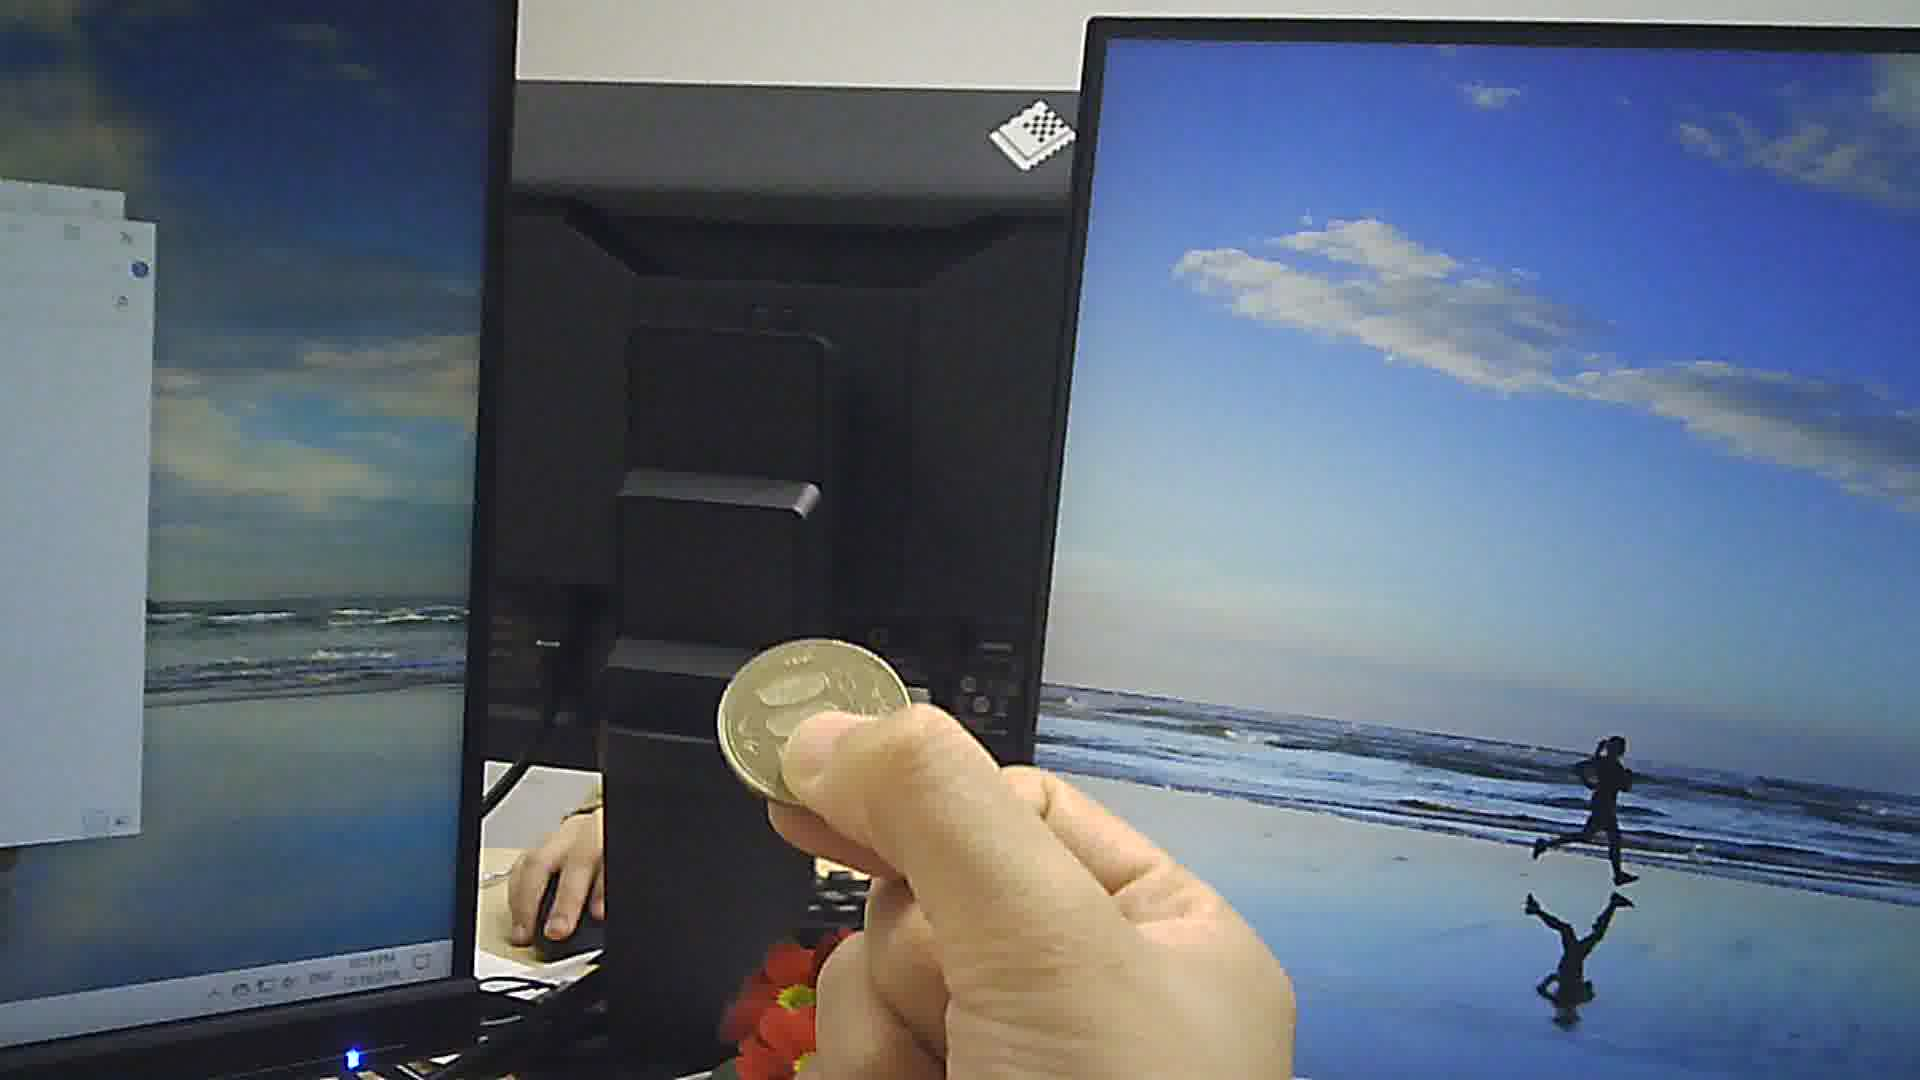500 Yen: (716, 628, 916, 810)
